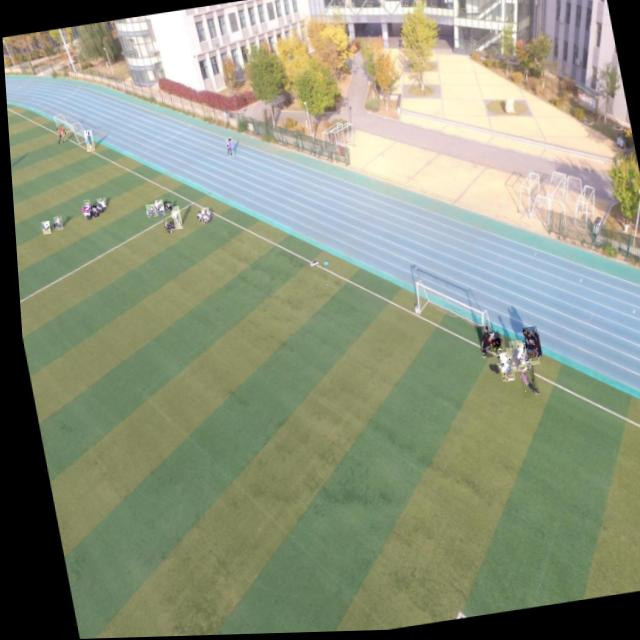Person: (512, 333, 534, 370), (512, 366, 534, 401), (491, 350, 510, 385), (517, 329, 537, 361), (503, 342, 522, 375), (471, 328, 488, 361), (521, 332, 538, 365), (167, 206, 180, 230), (81, 130, 93, 152), (53, 124, 65, 144), (222, 137, 233, 158), (159, 217, 172, 234), (141, 204, 154, 218), (49, 215, 60, 231), (485, 340, 497, 354), (150, 204, 162, 217), (38, 221, 48, 236), (192, 211, 202, 225), (85, 205, 96, 217), (93, 198, 104, 208), (197, 208, 207, 219), (80, 208, 89, 220), (78, 203, 87, 215), (151, 200, 161, 210), (93, 201, 101, 213), (161, 201, 169, 213), (199, 212, 207, 224), (81, 199, 88, 212)
